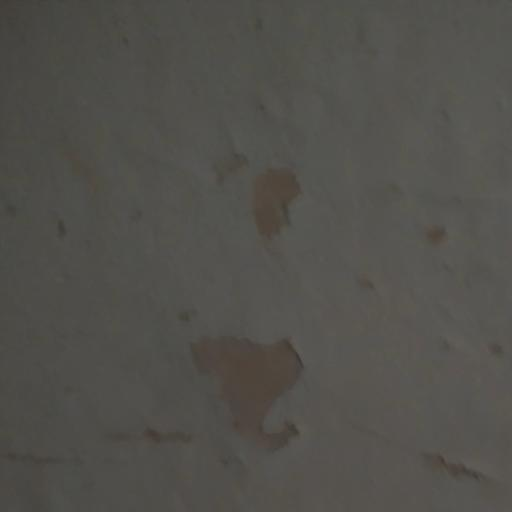peeling: (130, 285, 329, 468), (200, 112, 311, 242), (421, 425, 507, 497)
